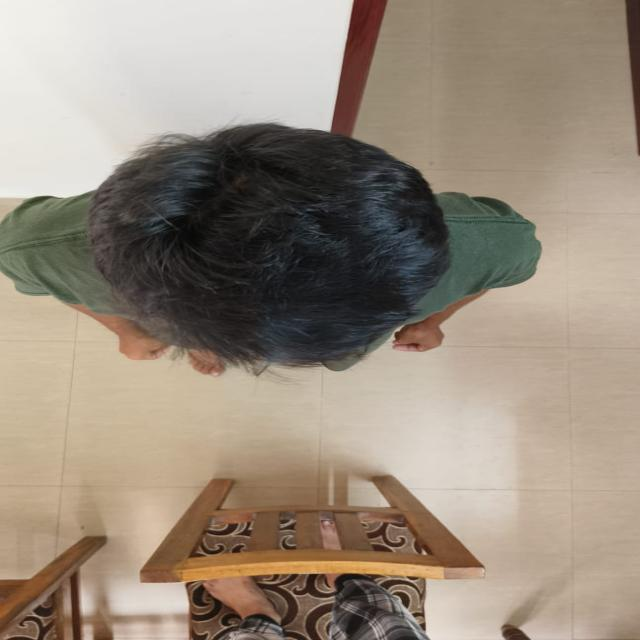humans: (0, 108, 543, 391)
